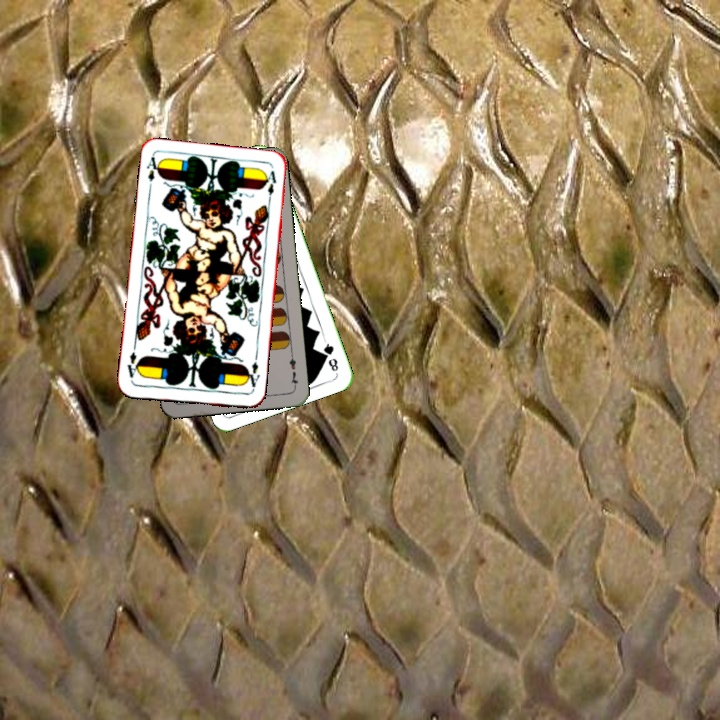E7: (285, 350, 301, 390)
EA: (142, 153, 163, 193), (242, 357, 262, 393)
G8: (319, 336, 341, 374)
